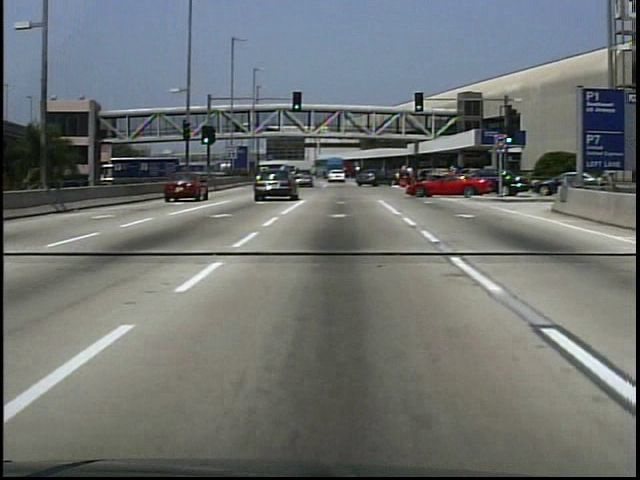person: (236, 123, 243, 136)
